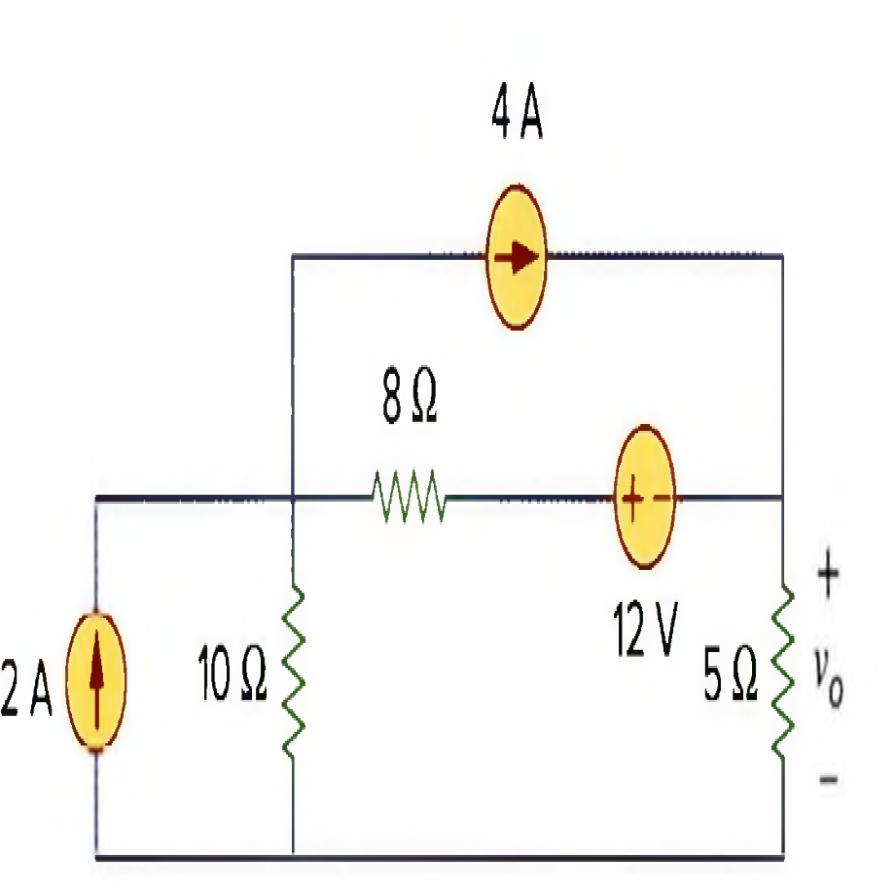I1: (59, 600, 134, 771)
I2: (472, 172, 566, 350)
R1: (356, 451, 453, 558)
R2: (272, 566, 315, 776), (767, 556, 802, 783)
V4: (607, 390, 689, 588)
